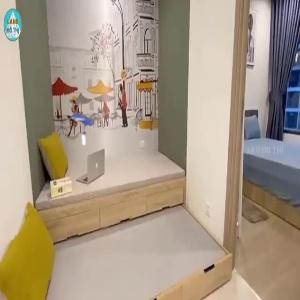drone: (51, 95, 113, 157)
